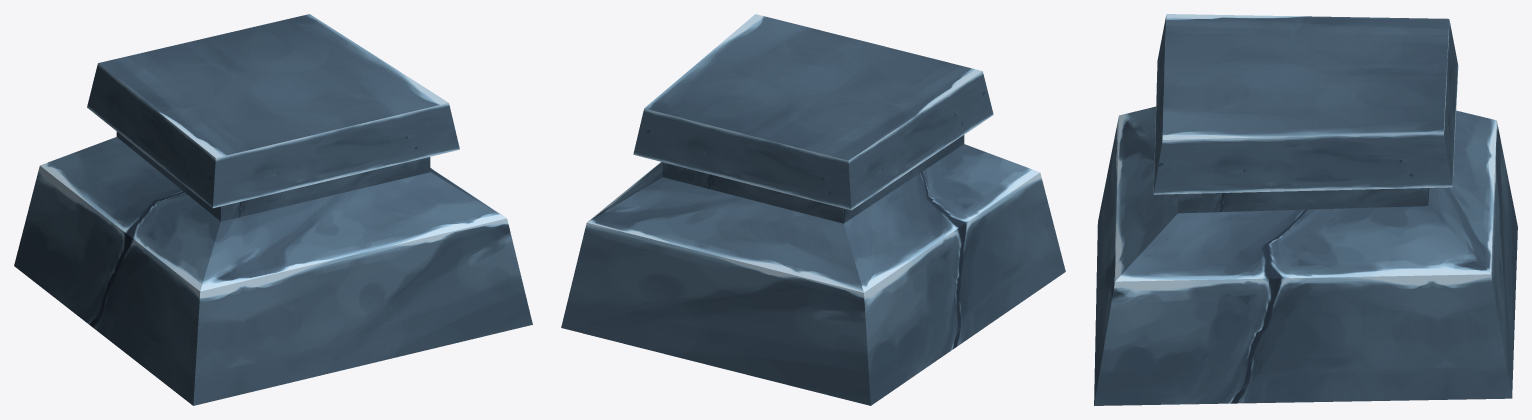
Rendered from SM_PROP_gravestone_base_06.fbx.
The picture shows the model from 3 angles, left to right: view 1: azimuth 30°, elevation 25°; view 2: azimuth 150°, elevation 25°; view 3: azimuth 270°, elevation 25°; orthographic projection. The views are drawn at different scales.
Parts seen in each view (by area): view 1: SM_PROP_gravestone_base_06; view 2: SM_PROP_gravestone_base_06; view 3: SM_PROP_gravestone_base_06.
Boxes of the visible parts, box(x1,y1,x2,y2) form: SM_PROP_gravestone_base_06: box(14, 14, 532, 405); SM_PROP_gravestone_base_06: box(561, 14, 1065, 405); SM_PROP_gravestone_base_06: box(1094, 14, 1517, 405).
Bounding box in the file's own units: 133 × 80 × 130.
